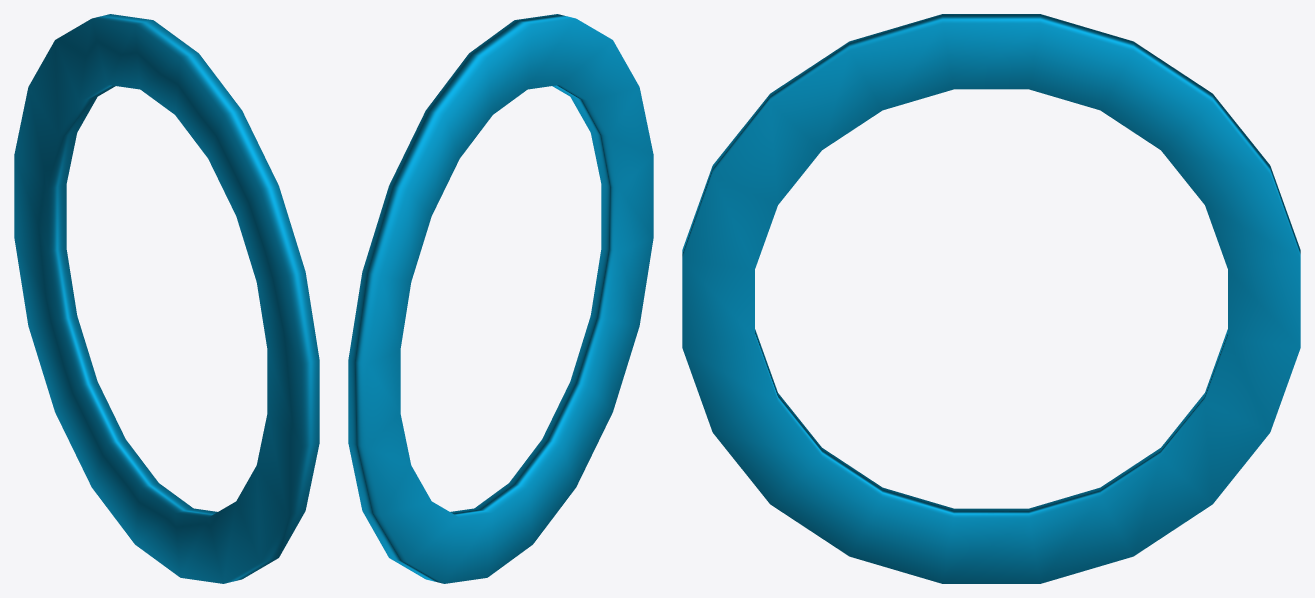
File: Washing_Machine_Door_Lod2.fbx
The picture shows the model from 3 angles, left to right: view 1: azimuth 30°, elevation 25°; view 2: azimuth 150°, elevation 25°; view 3: azimuth 270°, elevation 25°; orthographic projection. The views are drawn at different scales.
Visible parts, largest first — view 1: Washing_Machine_Door_Lod2; view 2: Washing_Machine_Door_Lod2; view 3: Washing_Machine_Door_Lod2.
Boxes of the visible parts, <box> form: Washing_Machine_Door_Lod2: <box>14,14,319,583</box>; Washing_Machine_Door_Lod2: <box>348,14,653,583</box>; Washing_Machine_Door_Lod2: <box>682,14,1300,583</box>.
Bounding box in the file's own units: 1.63 × 43.46 × 43.46.
